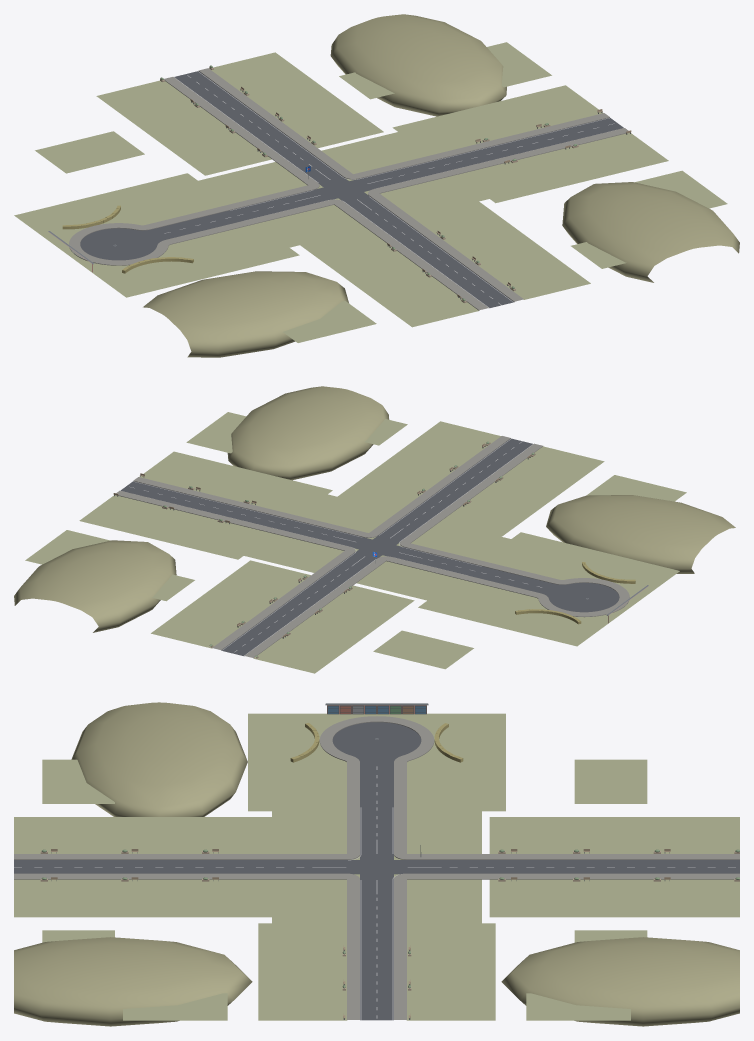
The picture shows the model from 3 angles, top to bottom: view 1: azimuth 30°, elevation 25°; view 2: azimuth 150°, elevation 25°; view 3: azimuth 270°, elevation 25°; orthographic projection. The views are drawn at different scales.
Parts seen in each view (by area): view 1: static; view 2: static; view 3: static.
Boxes of the visible parts, x1,y1,x2,y2 form: static: [14, 14, 739, 357]; static: [14, 386, 735, 673]; static: [14, 702, 739, 1026].
Size of what is drawn, in the model's own units: 180 by 14.08 by 180.
Materials: 3 (2 with a texture image).
